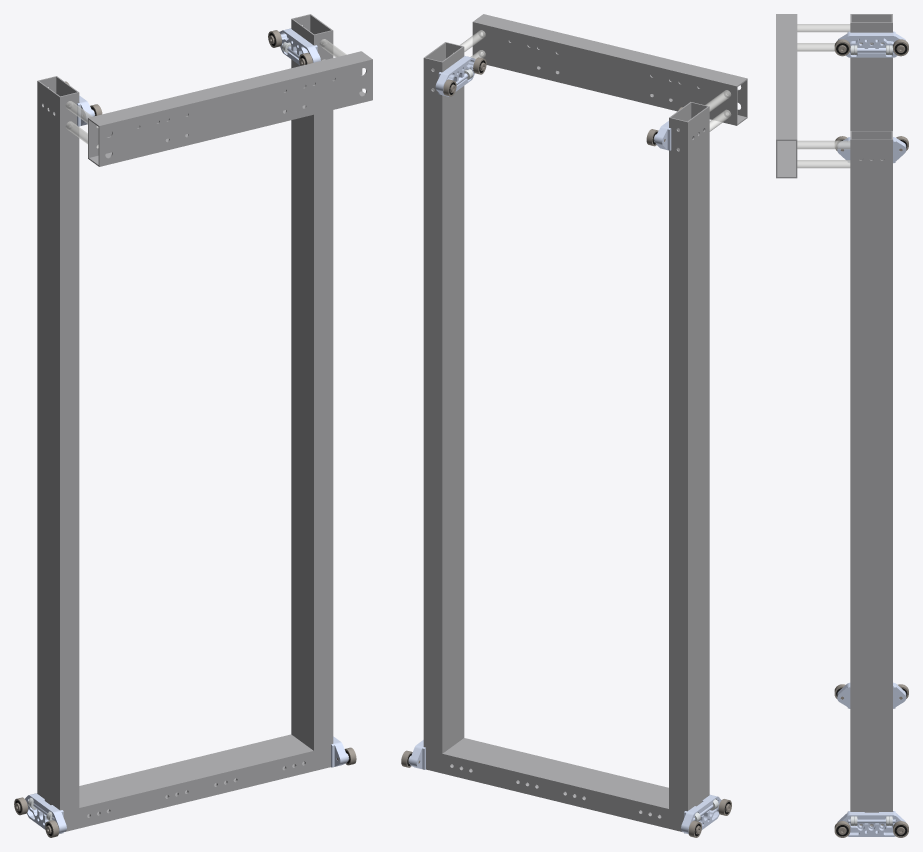
The picture shows the model from 3 angles, left to right: view 1: azimuth 30°, elevation 25°; view 2: azimuth 150°, elevation 25°; view 3: azimuth 270°, elevation 25°; orthographic projection. The views are drawn at different scales.
Visible parts, largest first — view 1: 02P-middle leg v18:1 (×2), 22P-middle support v8:1, 11P-middle bottom v8:1, WCP-0897-001 Rev1:1 (×2); view 2: 02P-middle leg v18:1 (×2), 22P-middle support v8:1, 11P-middle bottom v8:1, WCP-0897-001 Rev1:1 (×2); view 3: 02P-middle leg v18:1 (×2), 22P-middle support v8:1, WCP-0897-001 Rev1:1 (×4), 25P-spacer for middle v2:4, 25P-spacer for middle v2:3, 25P-spacer for middle v2:2, 25P-spacer for middle v2:1.
Part boxes in pixels (bbox=[...]): 02P-middle leg v18:1 (×2): bbox=[37, 14, 333, 831]; 22P-middle support v8:1: bbox=[88, 51, 372, 166]; 11P-middle bottom v8:1: bbox=[79, 734, 313, 828]; WCP-0897-001 Rev1:1 (×2): bbox=[25, 28, 320, 833]; 02P-middle leg v18:1 (×2): bbox=[423, 42, 709, 831]; 22P-middle support v8:1: bbox=[472, 14, 747, 125]; 11P-middle bottom v8:1: bbox=[442, 738, 668, 828]; WCP-0897-001 Rev1:1 (×2): bbox=[435, 56, 721, 834]; 02P-middle leg v18:1 (×2): bbox=[850, 14, 892, 826]; 22P-middle support v8:1: bbox=[776, 14, 797, 178]; WCP-0897-001 Rev1:1 (×4): bbox=[837, 31, 906, 836]; 25P-spacer for middle v2:4: bbox=[797, 140, 850, 149]; 25P-spacer for middle v2:3: bbox=[797, 160, 850, 168]; 25P-spacer for middle v2:2: bbox=[797, 24, 850, 32]; 25P-spacer for middle v2:1: bbox=[797, 43, 835, 51].
Size of the model in its own units: 0.3972 by 0.9144 by 0.1587.
